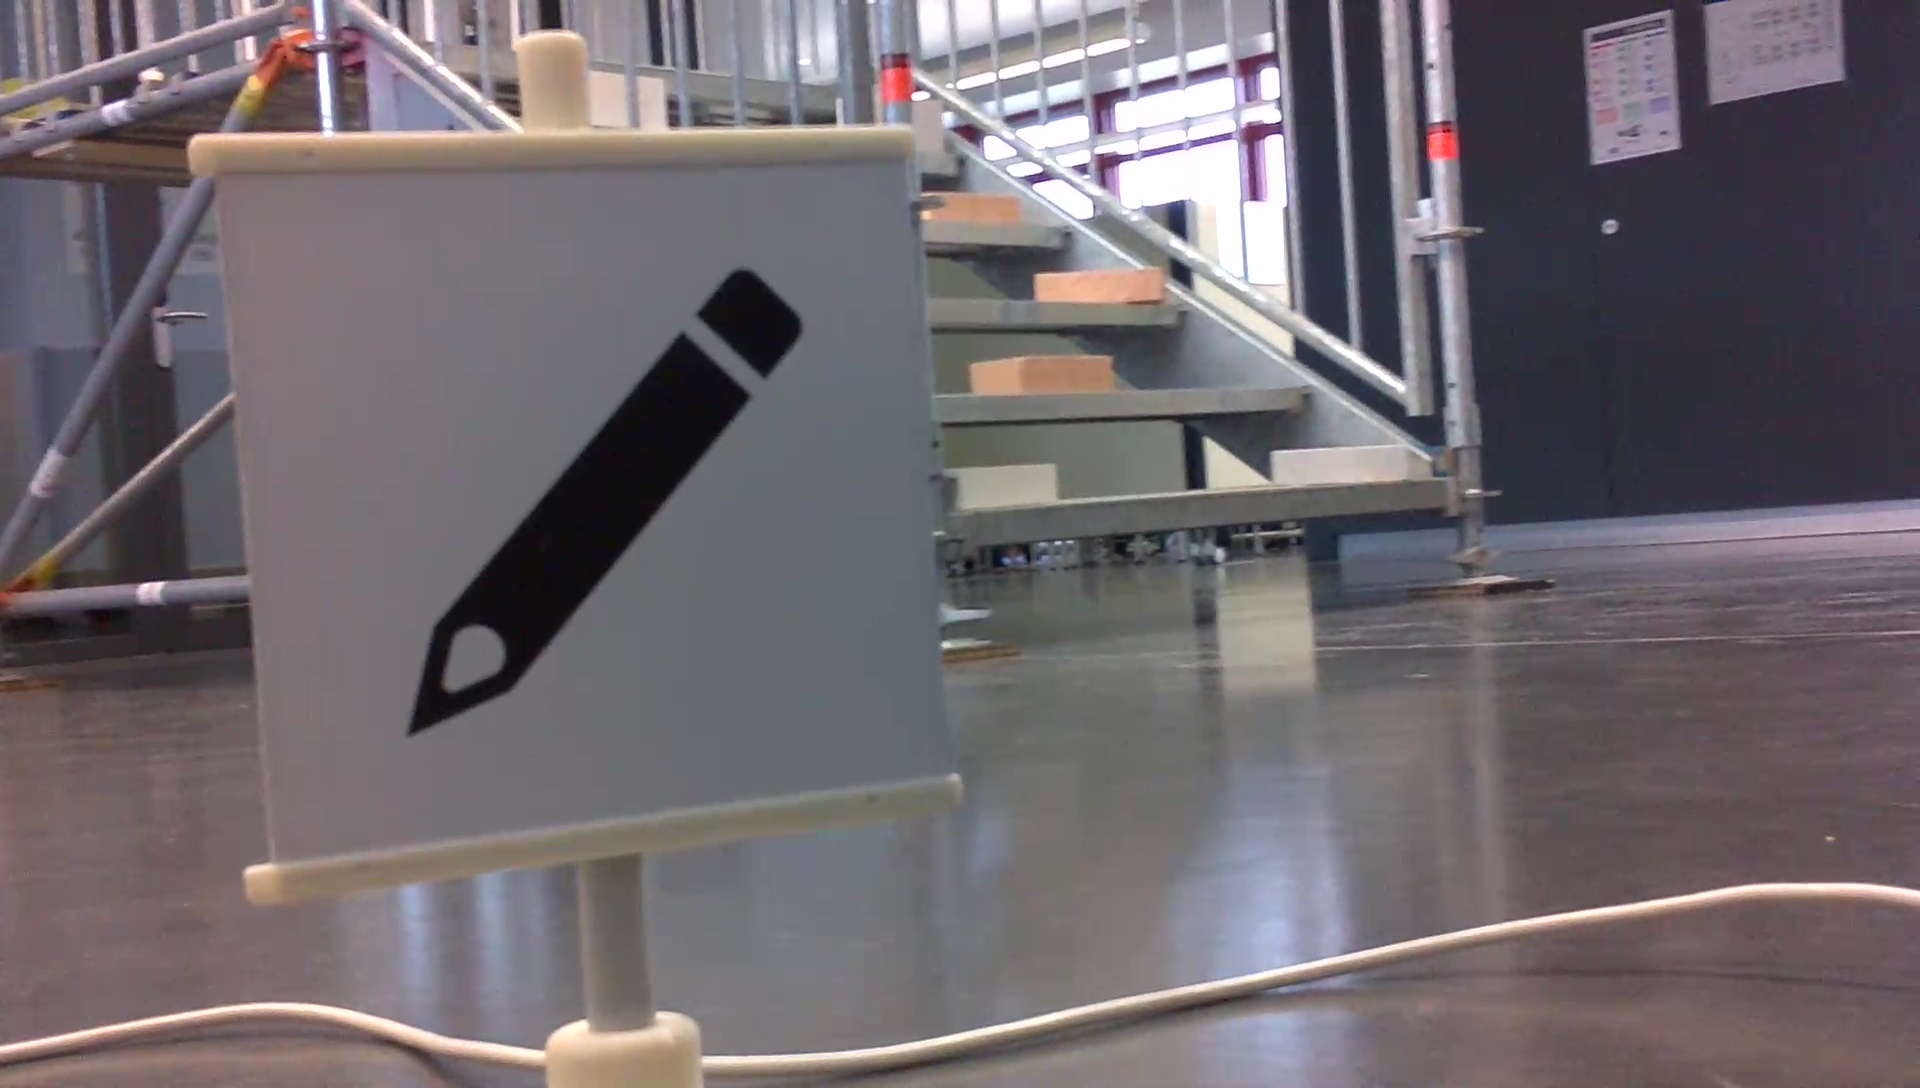brick: (976, 353, 1108, 394), (1273, 446, 1408, 485), (952, 466, 1058, 508), (1038, 270, 1163, 302), (930, 190, 1019, 223), (913, 98, 942, 150)
edge: (953, 480, 1437, 543), (935, 385, 1311, 421)
pencil: (389, 252, 814, 754)
